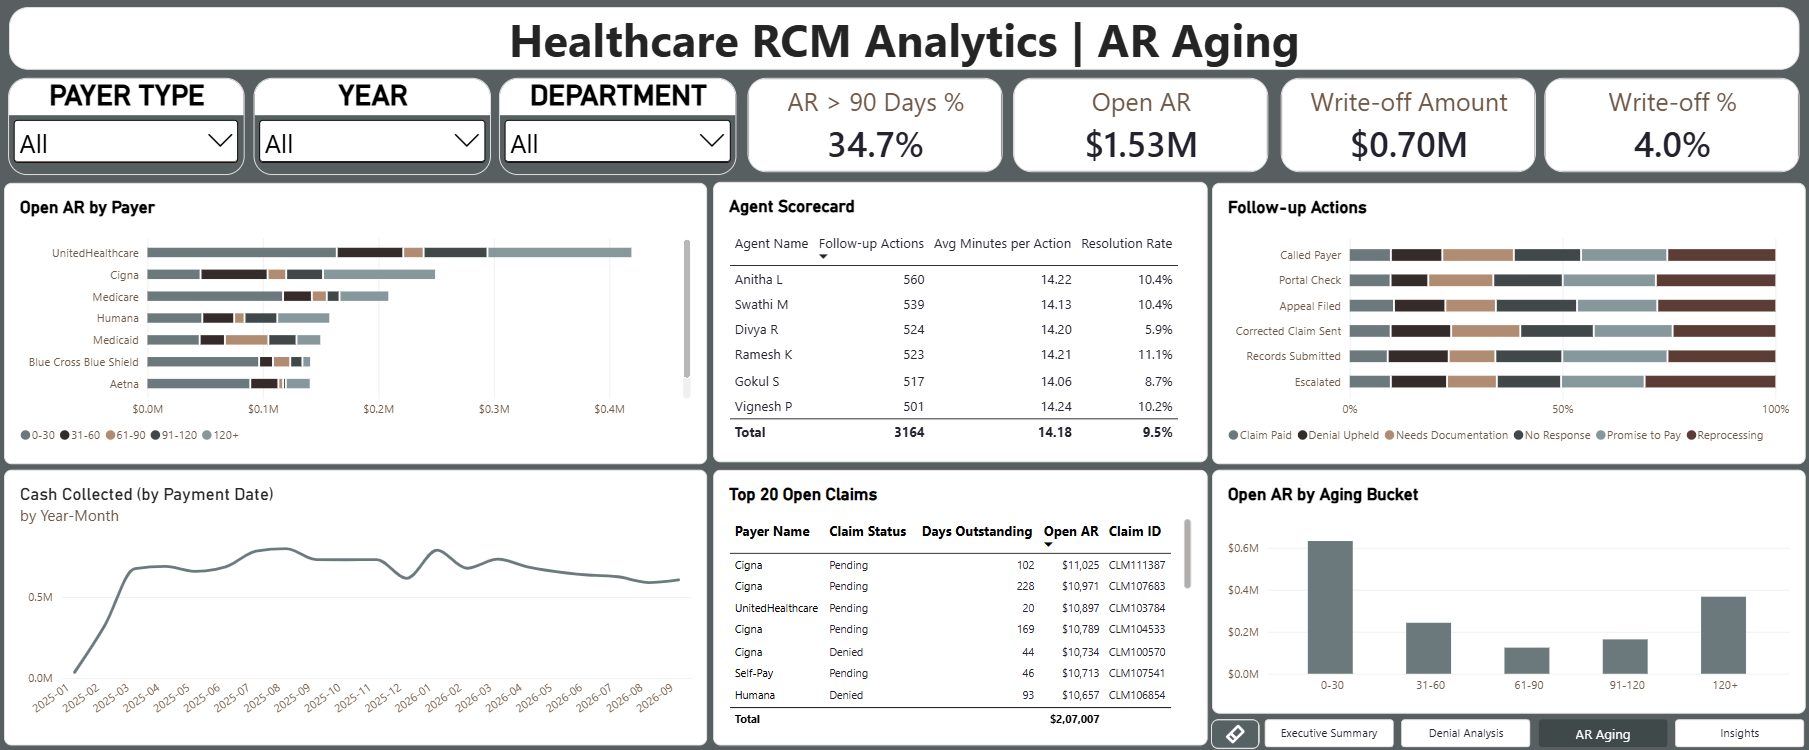

What the dashboard file says about the page in this screenshot:
{"tool":"powerbi","page":{"name":"AR Aging","canvas":[1920,800],"ordinal":2},"visuals":[{"type":"slicer","title":"YEAR","fields":{"Values":["Dim_Date.Year"]},"box":[270.2,84.3,251.1,102.8],"z":0},{"type":"slicer","title":"PAYER TYPE","fields":{"Values":["dim_payer.payer_type"]},"box":[10.7,84.3,250,102.8],"z":1000},{"type":"cardVisual","fields":{"Data":["_measures.Total Charges"]},"box":[1639.1,896.6,279.5,156.5],"z":2000},{"type":"slicer","title":"DEPARTMENT","fields":{"Values":["dim_provider.department"]},"box":[530.9,84.3,251.1,102.8],"z":3000},{"type":"textbox","box":[12,9.3,1896,66.7],"z":4000},{"type":"pageNavigator","box":[1341.6,764,573,30.7],"z":5000},{"type":"actionButton","box":[1285,763.7,51.3,31.5],"z":6000},{"type":"columnChart","title":"Open AR by Aging Bucket","fields":{"Category":["fact_claims.Aging_Bucket"],"Y":["_measures.Open AR"]},"box":[1285.4,500,628.8,258.4],"z":7000},{"type":"barChart","title":"Open AR by Payer","fields":{"Category":["dim_payer.payer_name"],"Series":["fact_claims.Aging_Bucket"],"Y":["_measures.Open AR"]},"box":[6.8,195.5,744.3,297.7],"z":8000},{"type":"tableEx","title":"Top 20 Open Claims","fields":{"Values":["dim_payer.payer_name","fact_claims.claim_status","fact_claims.Days_Outstanding","_measures.Open AR","fact_claims.claim_id"]},"box":[757.5,500,523.7,292.5],"z":9000},{"type":"tableEx","title":"Agent Scorecard","fields":{"Values":["dim_agent.agent_name","_measures.Follow-up Actions","_measures.Avg Minutes per Action","_measures.Resolution Rate"]},"box":[757.5,195,523.7,297.5],"z":10000},{"type":"hundredPercentStackedBarChart","title":"Follow-up Actions","fields":{"Category":["fact_ar_followup.action_type"],"Series":["fact_ar_followup.outcome"],"Y":["_measures.Follow-up Actions"]},"box":[1285.4,195.4,628.8,297.7],"z":11000},{"type":"cardVisual","fields":{"Data":["_measures.Write-off %"]},"box":[1638.1,84.5,270,100],"z":12000},{"type":"cardVisual","fields":{"Data":["_measures.Write-off Amount"]},"box":[1358.3,84.5,270,100],"z":13000},{"type":"cardVisual","fields":{"Data":["_measures.AR > 90 Days %"]},"box":[794,84.5,270,100],"z":14000},{"type":"cardVisual","fields":{"Data":["_measures.Open AR"]},"box":[1075,84.5,270,100],"z":15000},{"type":"lineChart","fields":{"Category":["Dim_Date.Year-Month"],"Y":["_measures.Cash Collected (by Payment Date)"]},"box":[6.8,500,744.3,292],"z":16000}]}

Visuals, with their boxes in screenshot pixels (x1, y1, x2, y2), scaled from the page's 1920x800 canvas onto the 1809x750 screenshot:
"YEAR" slicer: {"left": 255, "top": 79, "right": 491, "bottom": 175}
"PAYER TYPE" slicer: {"left": 10, "top": 79, "right": 246, "bottom": 175}
"DEPARTMENT" slicer: {"left": 500, "top": 79, "right": 737, "bottom": 175}
textbox: {"left": 11, "top": 9, "right": 1798, "bottom": 71}
pageNavigator: {"left": 1264, "top": 716, "right": 1804, "bottom": 745}
actionButton: {"left": 1211, "top": 716, "right": 1259, "bottom": 746}
"Open AR by Aging Bucket" columnChart: {"left": 1211, "top": 469, "right": 1804, "bottom": 711}
"Open AR by Payer" barChart: {"left": 6, "top": 183, "right": 708, "bottom": 462}
"Top 20 Open Claims" tableEx: {"left": 714, "top": 469, "right": 1207, "bottom": 743}
"Agent Scorecard" tableEx: {"left": 714, "top": 183, "right": 1207, "bottom": 462}
"Follow-up Actions" hundredPercentStackedBarChart: {"left": 1211, "top": 183, "right": 1804, "bottom": 462}
cardVisual - _measures.Write-off %: {"left": 1543, "top": 79, "right": 1798, "bottom": 173}
cardVisual - _measures.Write-off Amount: {"left": 1280, "top": 79, "right": 1534, "bottom": 173}
cardVisual - _measures.AR > 90 Days %: {"left": 748, "top": 79, "right": 1002, "bottom": 173}
cardVisual - _measures.Open AR: {"left": 1013, "top": 79, "right": 1267, "bottom": 173}
lineChart - Dim_Date.Year-Month x _measures.Cash Collected (by Payment Date): {"left": 6, "top": 469, "right": 708, "bottom": 742}
